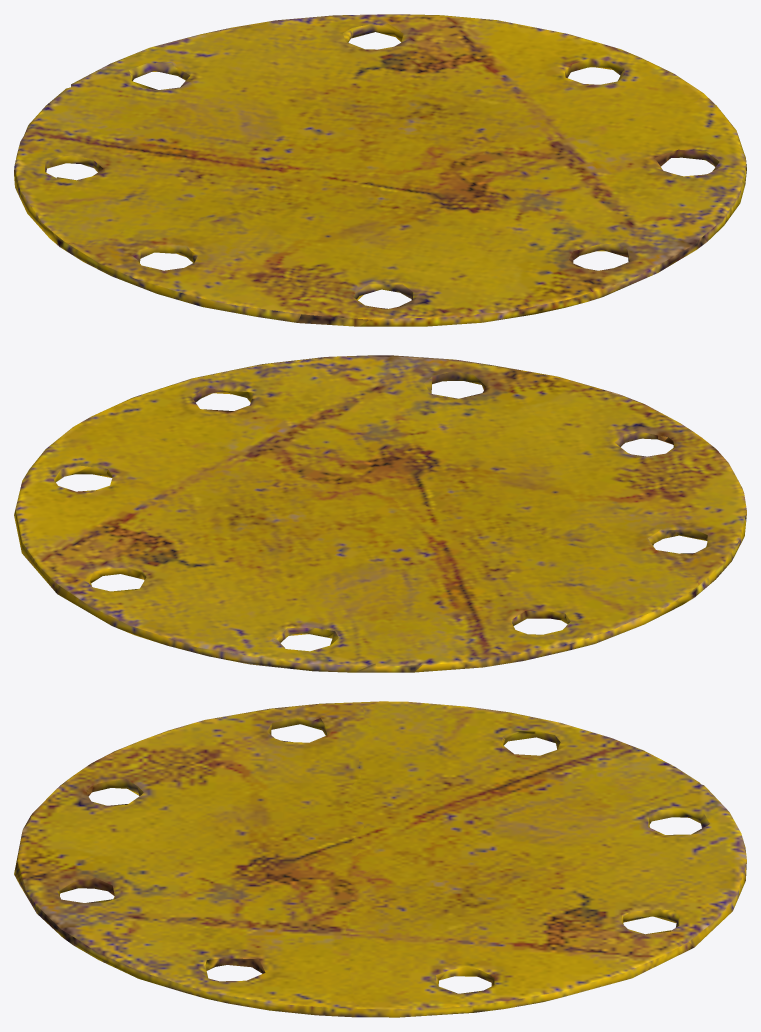
Rendered from SM_Ind_Jun_Cover_Metal_Painted_05.gltf.
3 renders of one model, top to bottom at view 1: azimuth 30°, elevation 25°; view 2: azimuth 150°, elevation 25°; view 3: azimuth 270°, elevation 25°, orthographic.
Parts seen in each view (by area): view 1: SM_Ind_Jun_Cover_Metal_Painted_05; view 2: SM_Ind_Jun_Cover_Metal_Painted_05; view 3: SM_Ind_Jun_Cover_Metal_Painted_05.
Boxes of the visible parts, bbox=[...] form: SM_Ind_Jun_Cover_Metal_Painted_05: bbox=[14, 14, 746, 326]; SM_Ind_Jun_Cover_Metal_Painted_05: bbox=[14, 355, 746, 672]; SM_Ind_Jun_Cover_Metal_Painted_05: bbox=[14, 701, 746, 1017].
Size of the model in its own units: 0.2501 by 0.00492 by 0.2503.
Materials: 1 (1 with a texture image).
